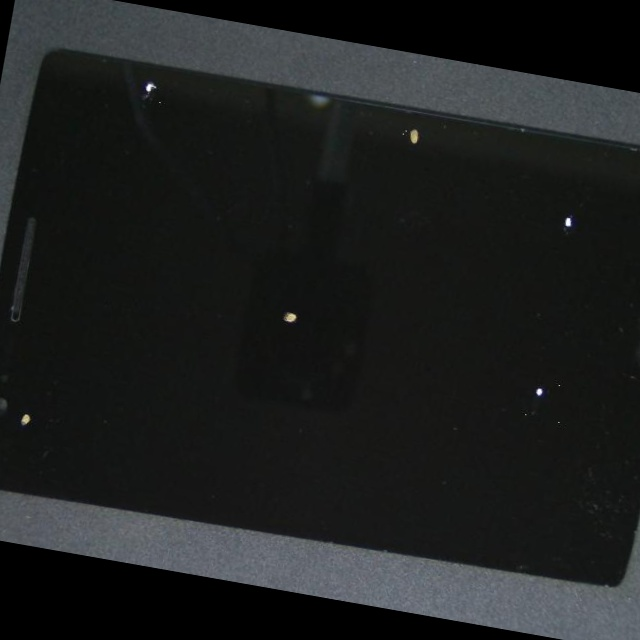stain: (195, 190, 640, 617), (87, 137, 459, 505), (216, 129, 640, 352), (207, 20, 616, 192), (0, 171, 85, 544), (12, 33, 209, 160)
